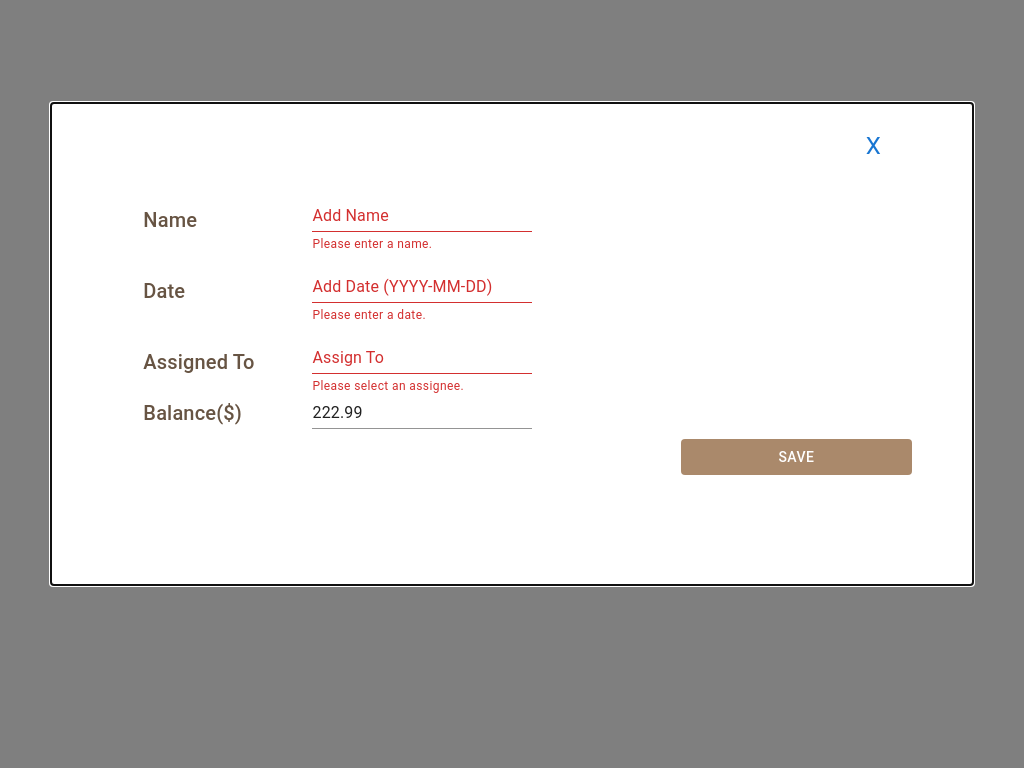
Test: Testing <ExpensesOverlay /> Component › should change have balance error
Clear the field with id "expenses-overlay-balance-field": [422, 413] box [312,397,532,429]
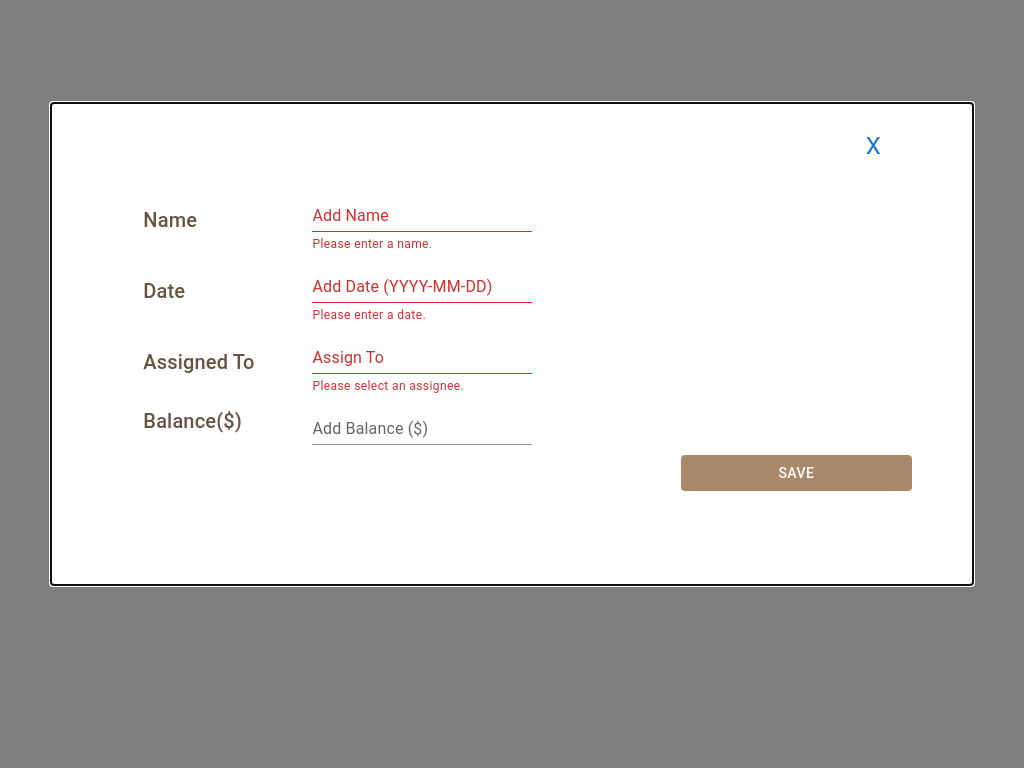
Click the button with id "expense-overlay-save-button": [796, 473] box [681,455,912,492]
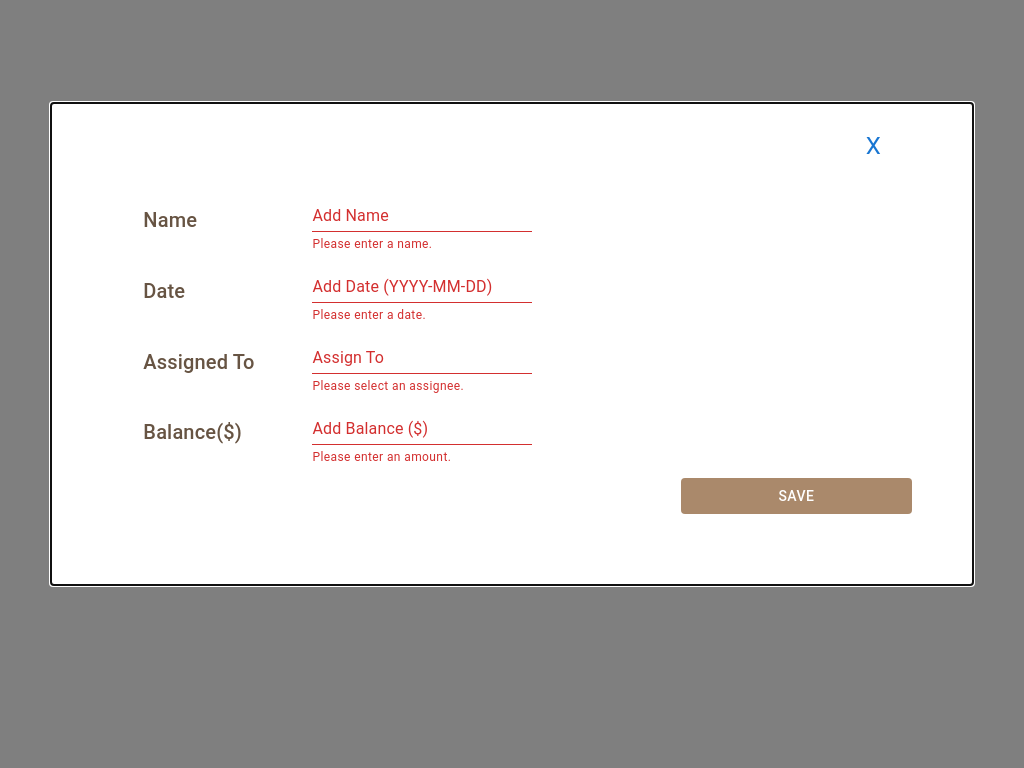
Now the text with id "expenses-overlay-balance-field-helper-text" reads "Please enter an amount.", box [312,450,451,464]
